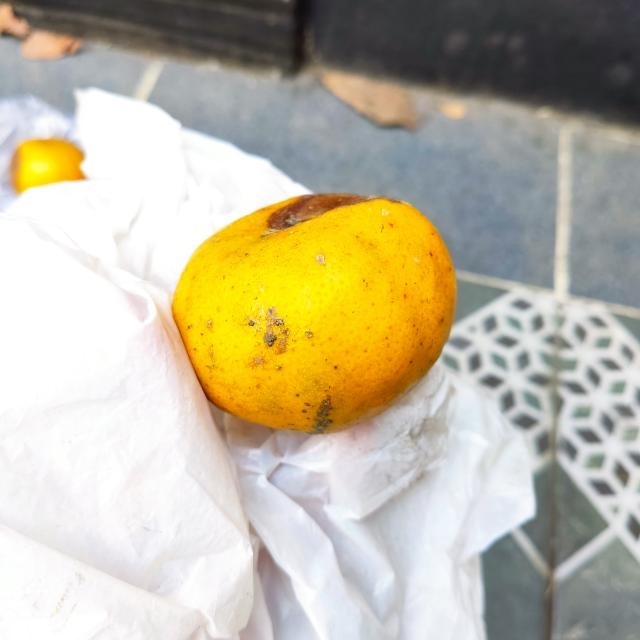agrume: (169, 193, 454, 430)
